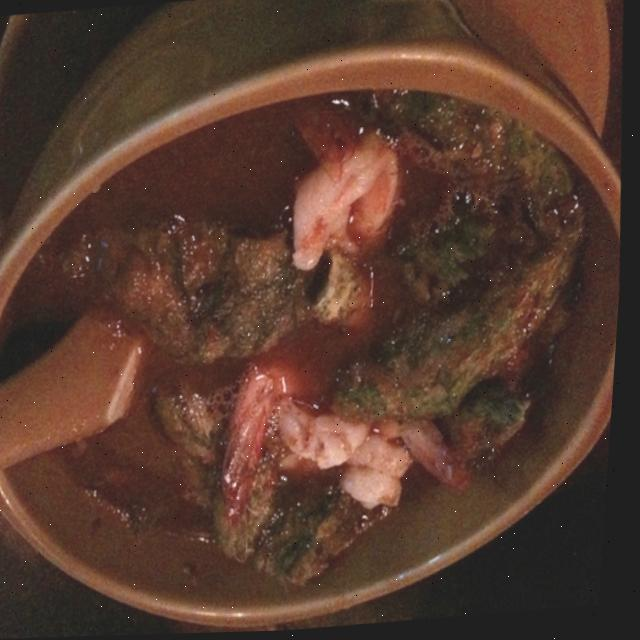汤锅炖物: (0, 19, 638, 640)
